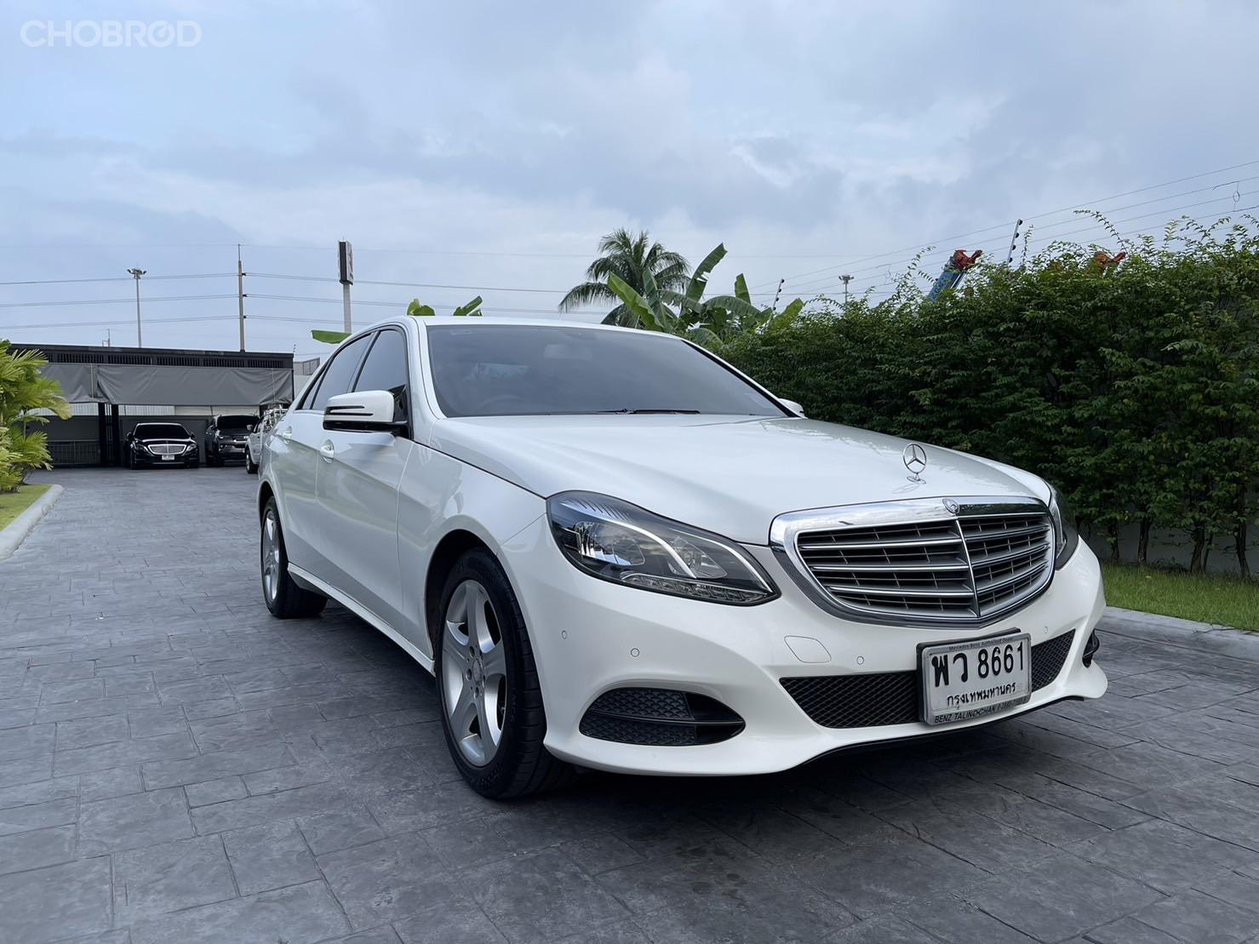license-plate: (916, 630, 1039, 729)
